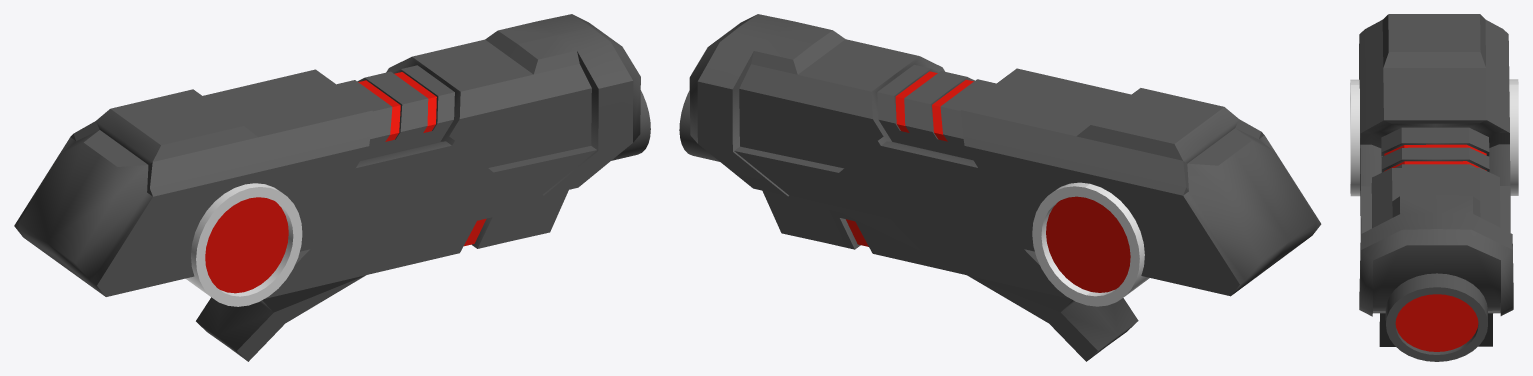
The picture shows the model from 3 angles, left to right: view 1: azimuth 30°, elevation 25°; view 2: azimuth 150°, elevation 25°; view 3: azimuth 270°, elevation 25°; orthographic projection. The views are drawn at different scales.
Visible parts, largest first — view 1: 立方體.052; view 2: 立方體.052; view 3: 立方體.052.
Boxes of the visible parts, left/top/right/bottom form: 立方體.052: left=14, top=14, right=650, bottom=361; 立方體.052: left=679, top=14, right=1321, bottom=361; 立方體.052: left=1350, top=14, right=1518, bottom=361.
Bounding box in the file's own units: 437 × 175 × 121.
